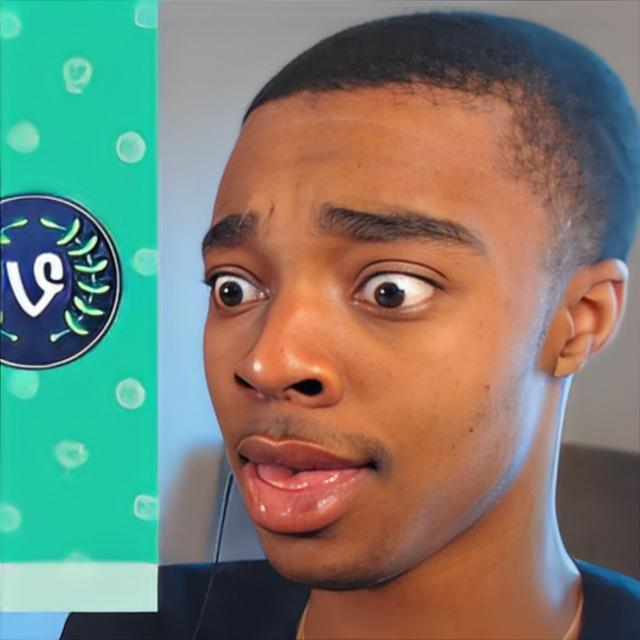fear: (198, 77, 539, 590)
